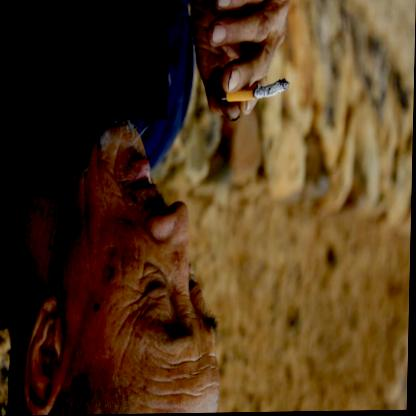smoke: (80, 36, 169, 121)
